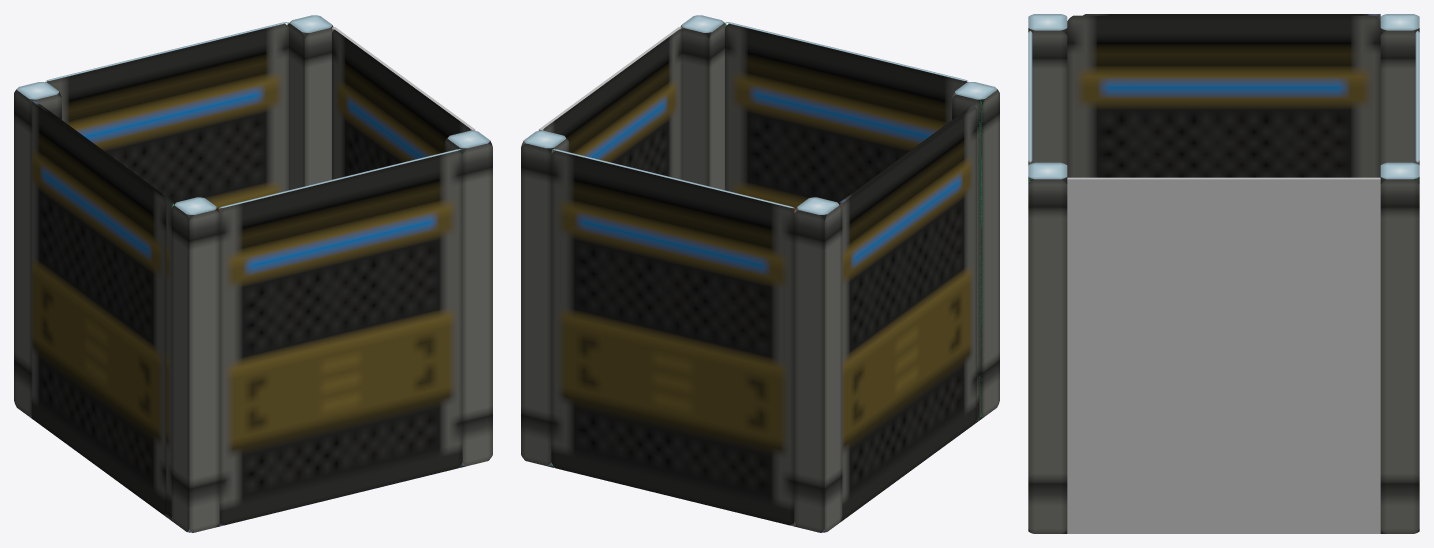
File: Wall1.obj
3 views of the same model, side by side, from view 1: azimuth 30°, elevation 25°; view 2: azimuth 150°, elevation 25°; view 3: azimuth 270°, elevation 25° (orthographic). The views are drawn at different scales.
Parts seen in each view (by area): view 1: S, W, N, SW, E, SE, NE, NW; view 2: N, W, S, NW, E, NE, SW, SE; view 3: E, W, SE, NE, NW, SW, S, N.
Part boxes in pixels (x1,y1,x2,y2): S: (218,149,462,525); W: (31,100,173,519); N: (45,22,288,209); SW: (171,197,219,532); E: (332,27,475,179); SE: (445,130,492,465); NE: (287,15,333,190); NW: (14,82,61,416); N: (551,149,795,525); W: (839,101,982,520); S: (725,22,968,209); NW: (794,197,842,532); E: (538,27,681,179); NE: (521,130,568,465); SW: (952,82,999,416); SE: (680,15,725,190); E: (1067,177,1380,533); W: (1067,14,1380,177); SE: (1028,162,1067,533); NE: (1380,162,1419,533); NW: (1380,14,1419,164); SW: (1028,14,1067,165); S: (1028,30,1032,183); N: (1415,30,1419,181).
Size of the model in its own units: 2 by 2 by 2.
2 materials, 1 textured.
